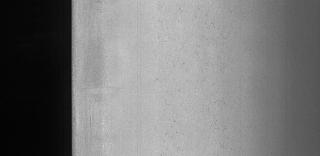silk spot: (158, 0, 238, 124)
